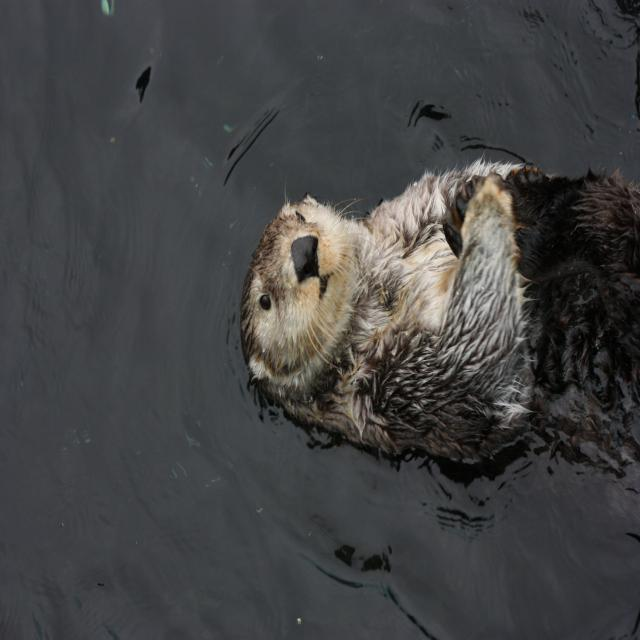otter: (241, 158, 640, 463)
